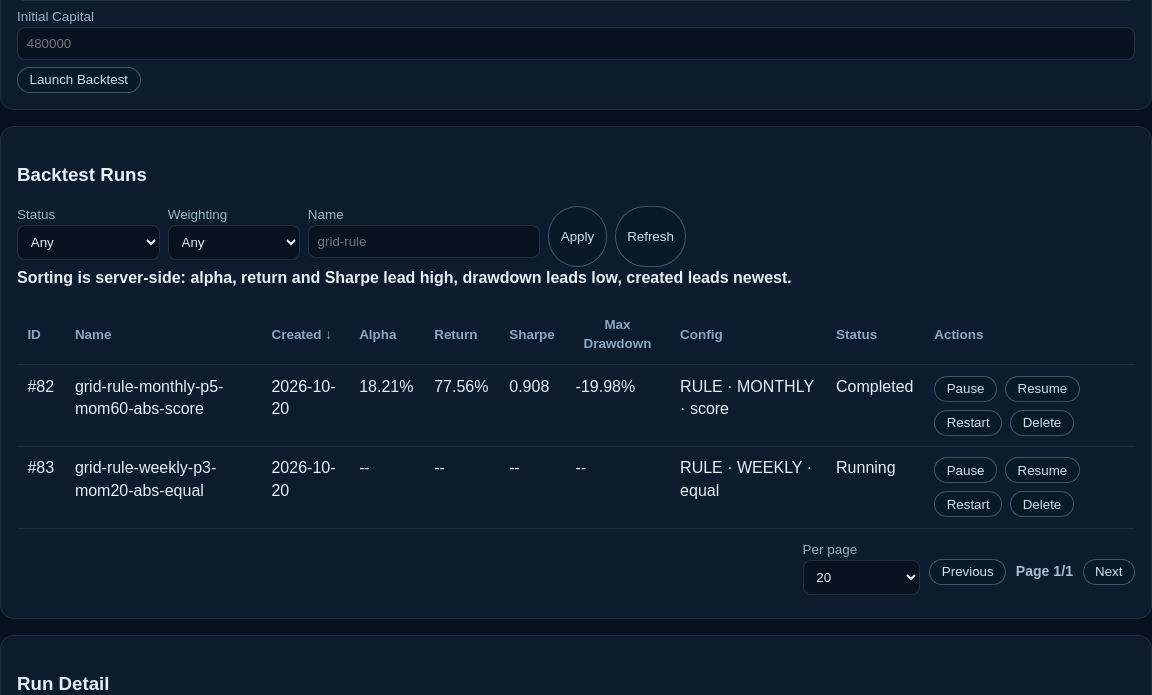
Test: EtfBacktestWorkbenchPage › sends the sort column to the server instead of re-ordering the current page
This screenshot has width=1152, height=695.
(page scrolled)
Click the button "Alpha". click: (378, 335)
box: [359,326,396,344]
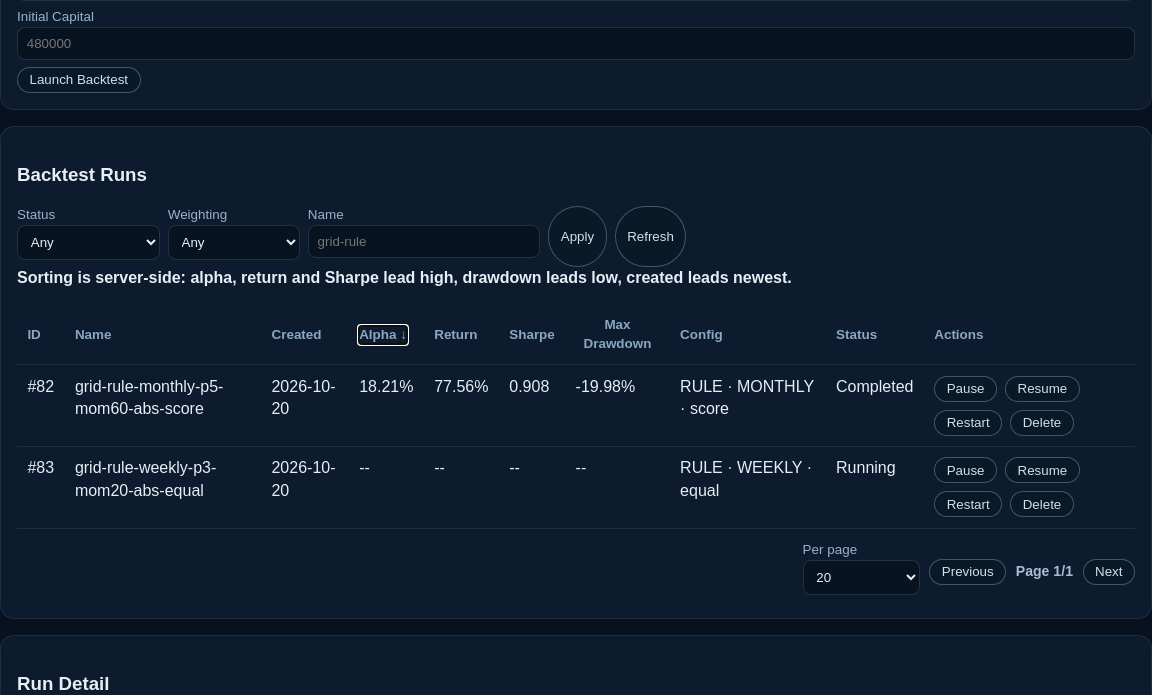
Expected: the button "Created" is shown, [272,326,322,344]
Now the button "Alpha ↓" is shown, box [359,326,407,344]
